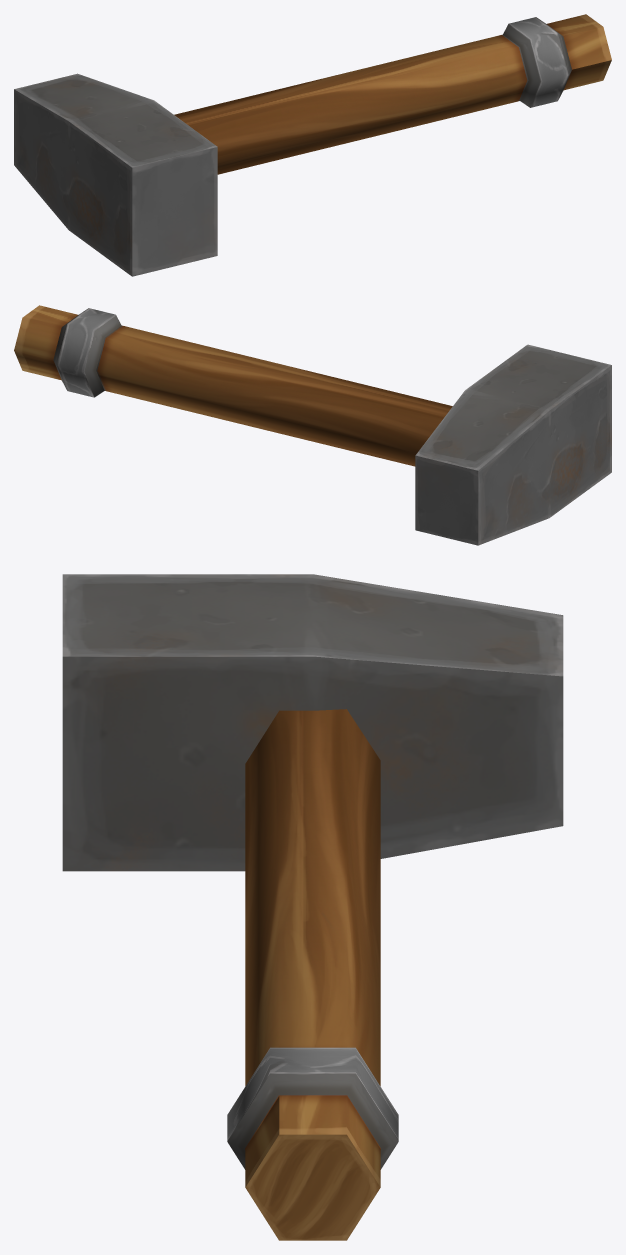
Rendered from Hammer.FBX.
3 views of the same model, one above another, from view 1: azimuth 30°, elevation 25°; view 2: azimuth 150°, elevation 25°; view 3: azimuth 270°, elevation 25° (orthographic). The views are drawn at different scales.
Parts seen in each view (by area): view 1: Hammer; view 2: Hammer; view 3: Hammer.
Boxes of the visible parts, x1,y1,x2,y2 form: Hammer: [14, 14, 611, 276]; Hammer: [14, 305, 611, 545]; Hammer: [62, 574, 563, 1240].
Size of what is drawn, in the model's own units: 239 by 100 by 47.34.
